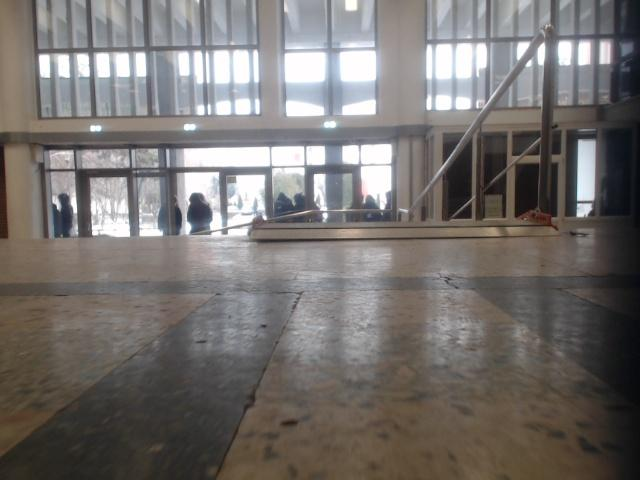rampDown: (246, 220, 559, 241)
ramps-railing: (399, 25, 557, 217), (280, 208, 389, 217)
